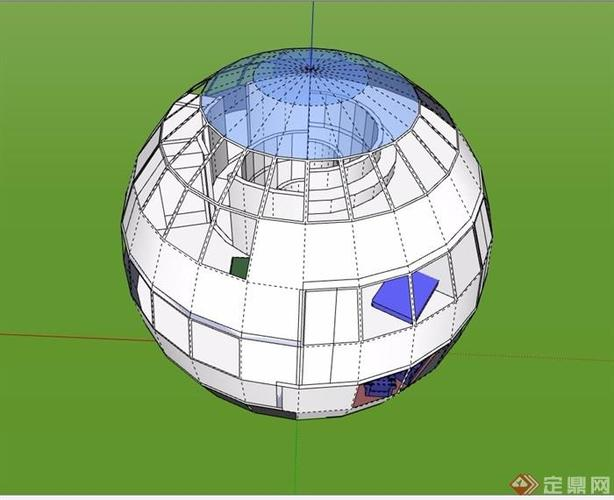buildings: (104, 72, 496, 422)
